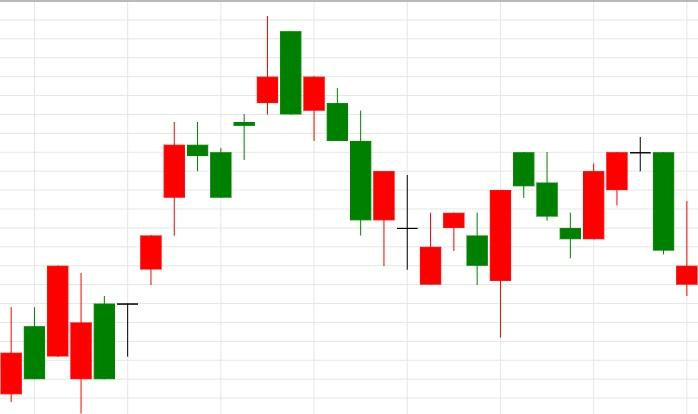evening_star_fall: (559, 136, 674, 258)
shooting_star_fall: (139, 15, 278, 286)
